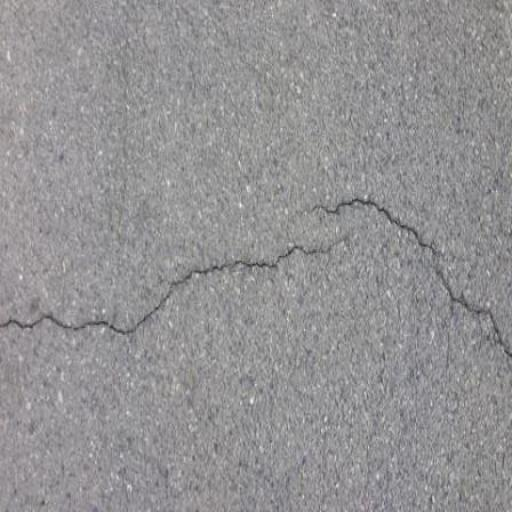spalling: (0, 226, 368, 353), (300, 179, 507, 377)
